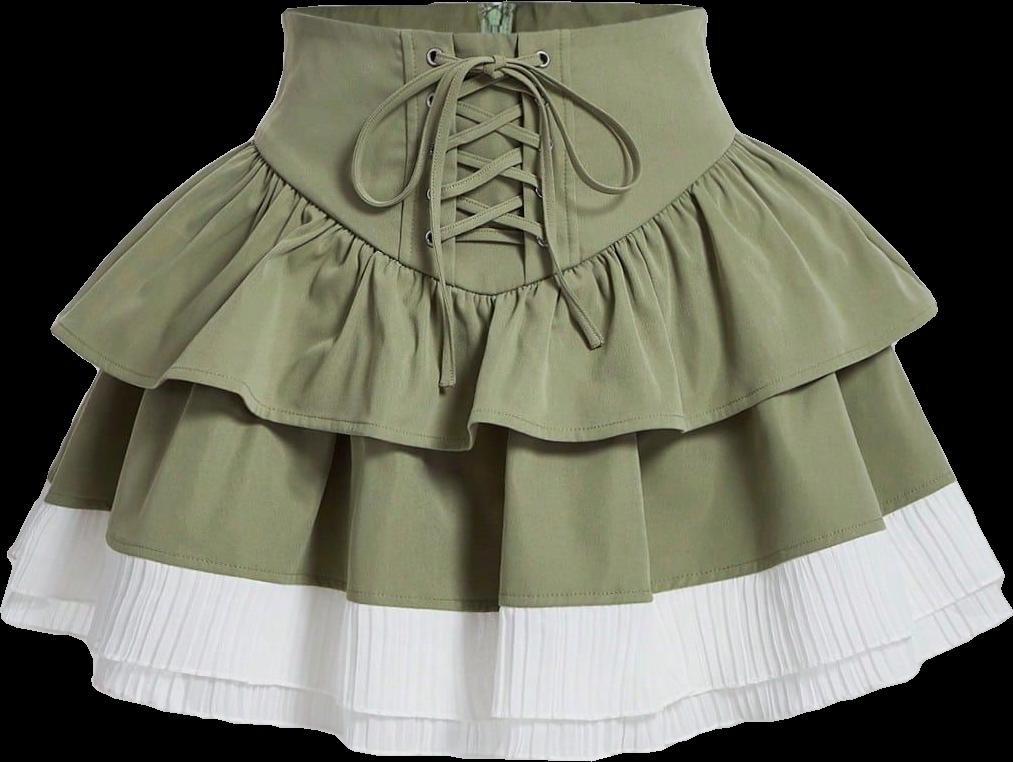Hemline: (0, 552, 1012, 761), (48, 307, 942, 454)
Waistline: (248, 129, 740, 300), (278, 3, 709, 44)
